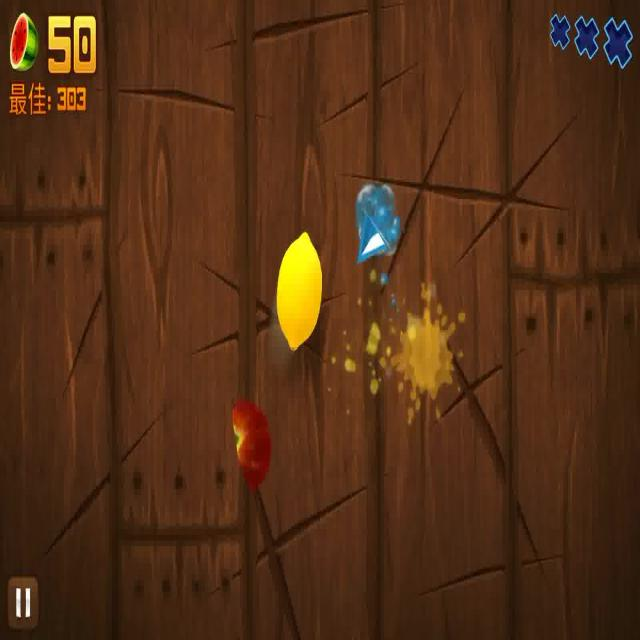fruit: (276, 231, 324, 352), (233, 393, 274, 493)
